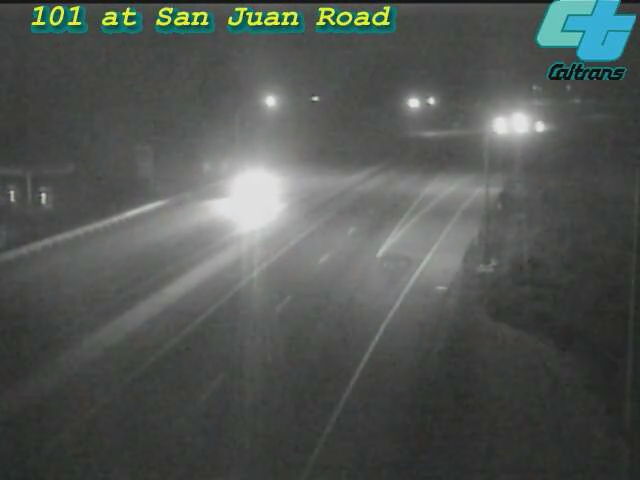vehicle: (209, 150, 289, 230), (513, 104, 563, 154), (472, 102, 522, 152), (494, 97, 544, 147)
